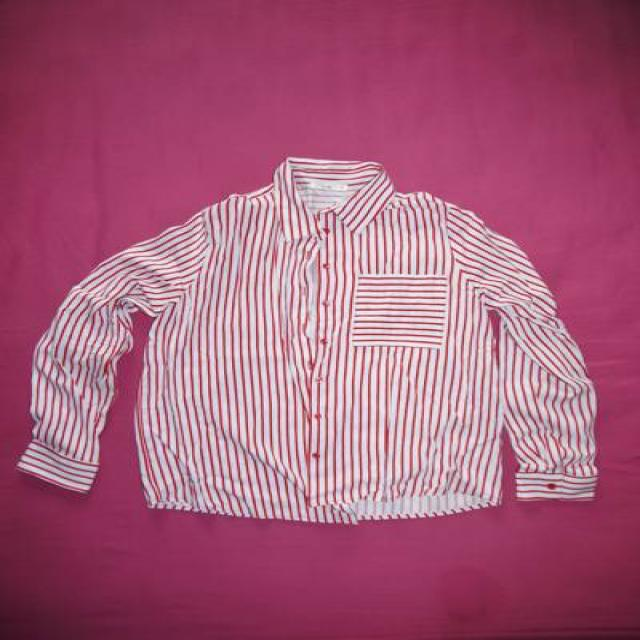Clothes -Biodegradable-: (17, 158, 597, 515)
